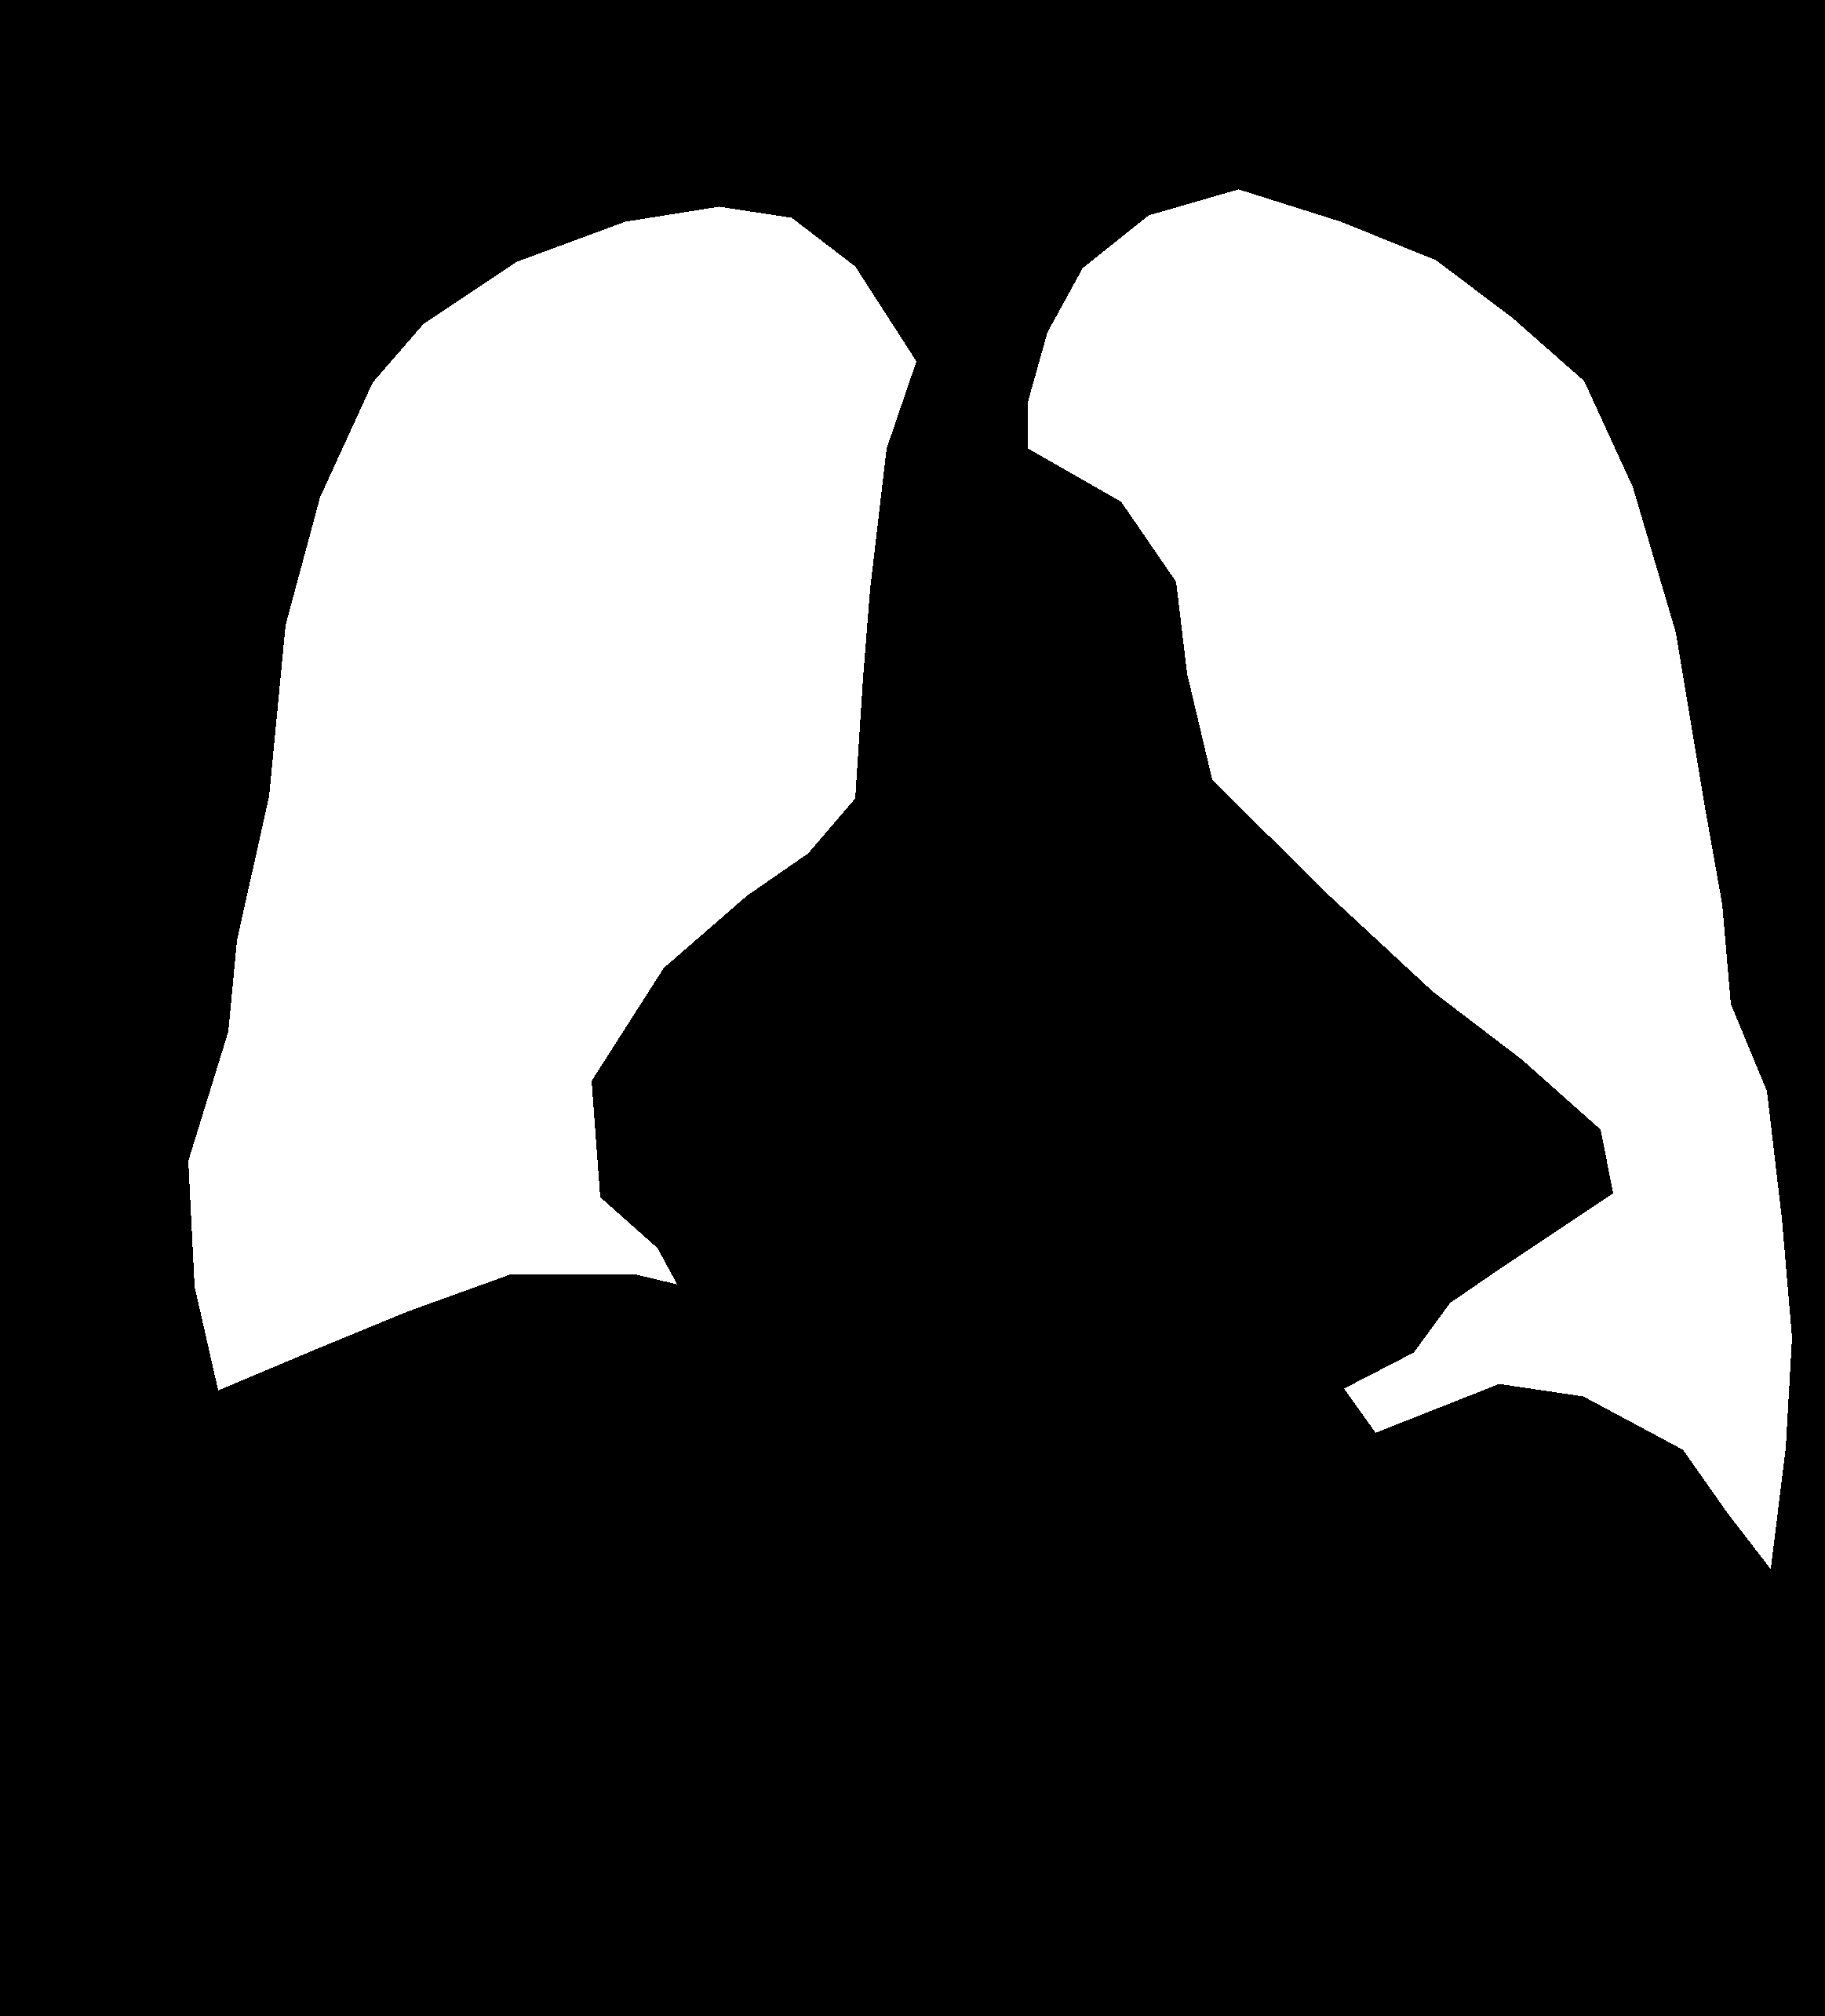heart: (597, 699, 1611, 1445)
left_lung: (188, 207, 915, 1389)
right_lung: (1028, 190, 1792, 1568)
